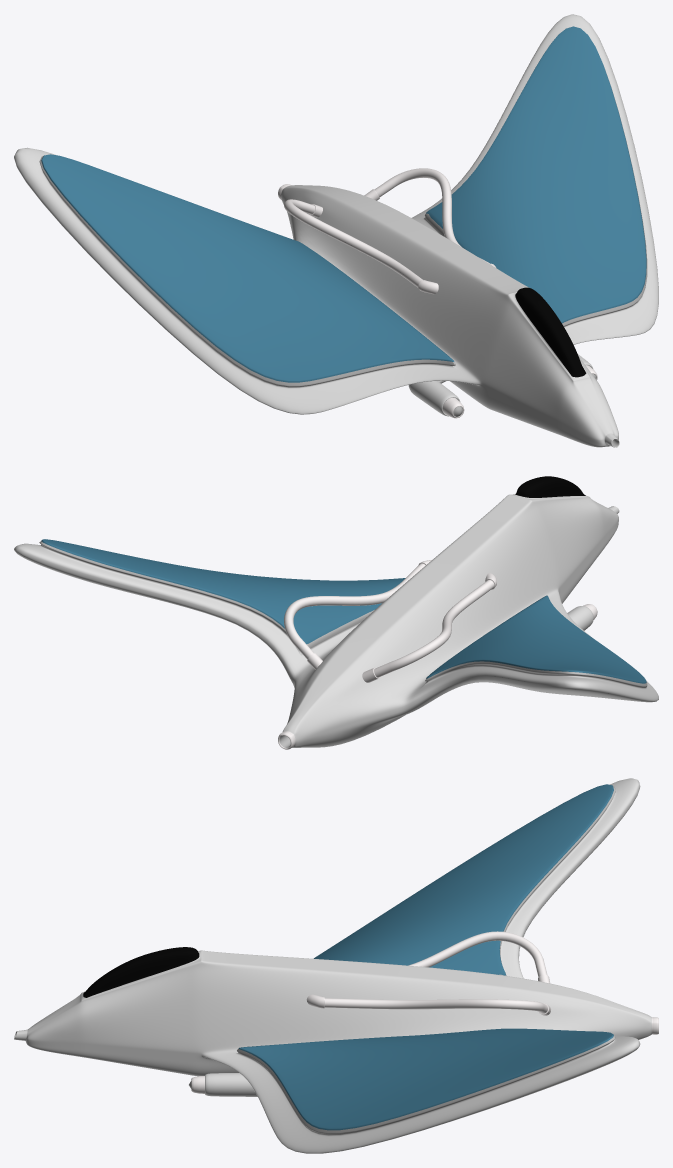
File: StarShip_Test_01.fbx
3 renders of one model, top to bottom at view 1: azimuth 30°, elevation 25°; view 2: azimuth 150°, elevation 25°; view 3: azimuth 270°, elevation 25°, orthographic. The views are drawn at different scales.
Parts seen in each view (by area): view 1: pCylinder7; view 2: pCylinder7; view 3: pCylinder7.
Boxes of the visible parts, <box> form: pCylinder7: <box>14,14,658,447</box>; pCylinder7: <box>14,476,658,749</box>; pCylinder7: <box>14,778,658,1153</box>.
Bounding box in the file's own units: 12.17 × 3.3 × 12.16.
